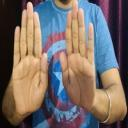hand: (12, 1, 48, 114), (60, 0, 96, 110)
